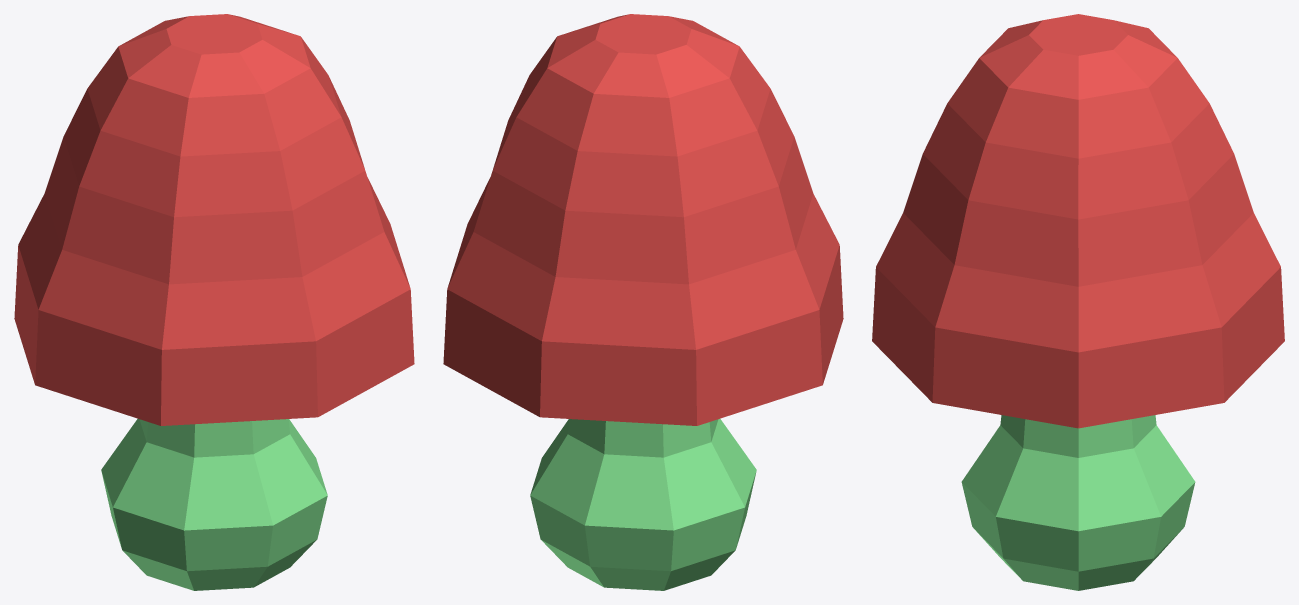
File: Mushroom006.fbx
3 renders of one model, left to right at view 1: azimuth 30°, elevation 25°; view 2: azimuth 150°, elevation 25°; view 3: azimuth 270°, elevation 25°, orthographic.
Visible parts, largest first — view 1: Mushroom006; view 2: Mushroom006; view 3: Mushroom006.
Boxes of the visible parts, bbox=[...] form: Mushroom006: bbox=[14, 14, 414, 590]; Mushroom006: bbox=[443, 14, 843, 590]; Mushroom006: bbox=[872, 14, 1284, 590].
Bounding box in the file's own units: 0.3402 × 0.4755 × 0.3402.
